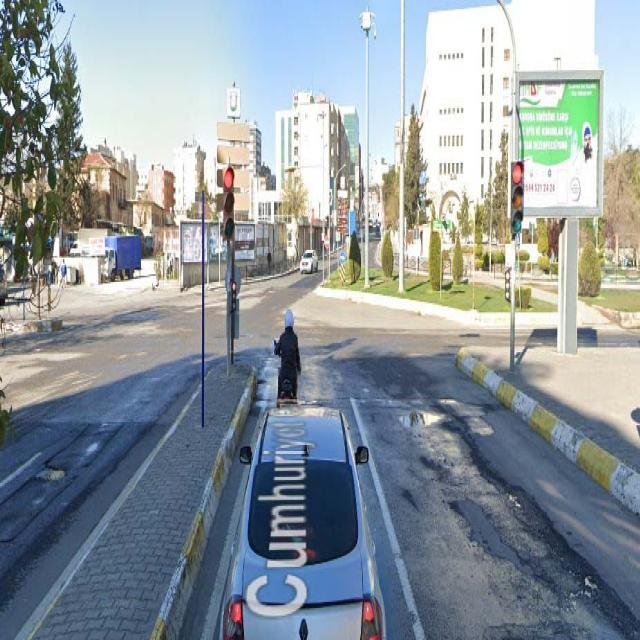kirmizi: (221, 169, 234, 238), (511, 163, 521, 236)
